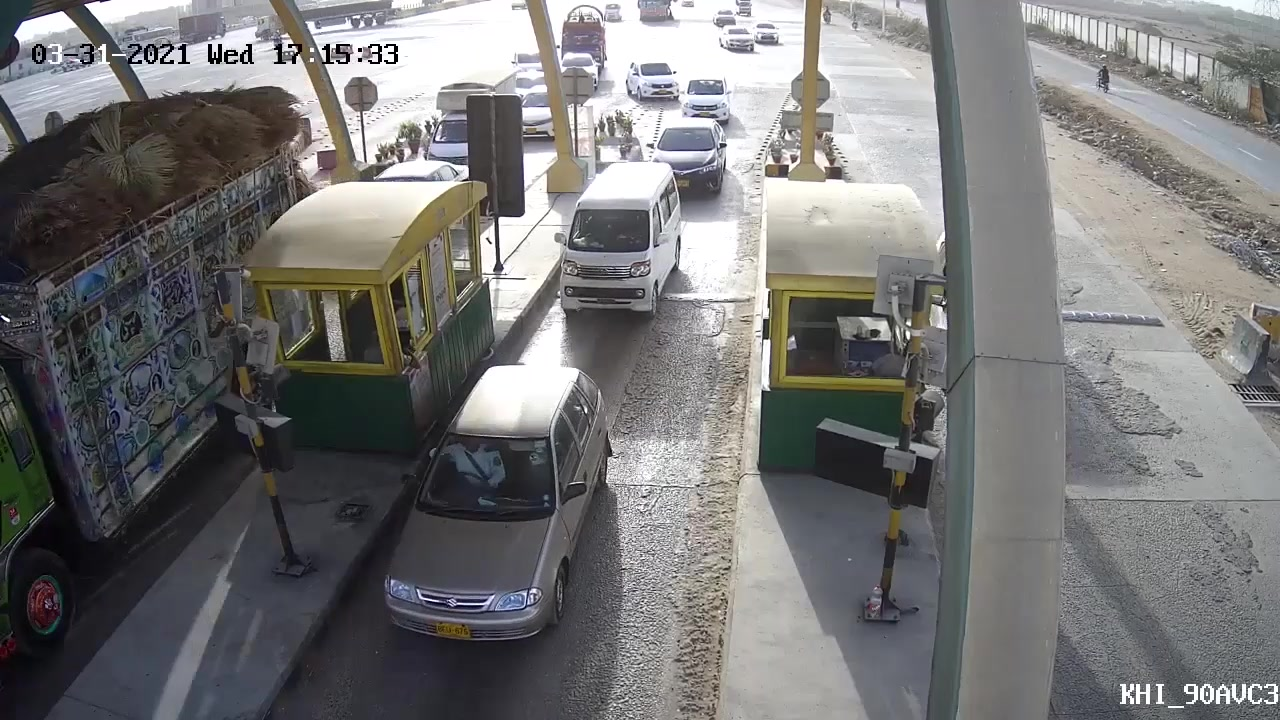F1: (381, 361, 607, 646), (551, 155, 689, 327)
